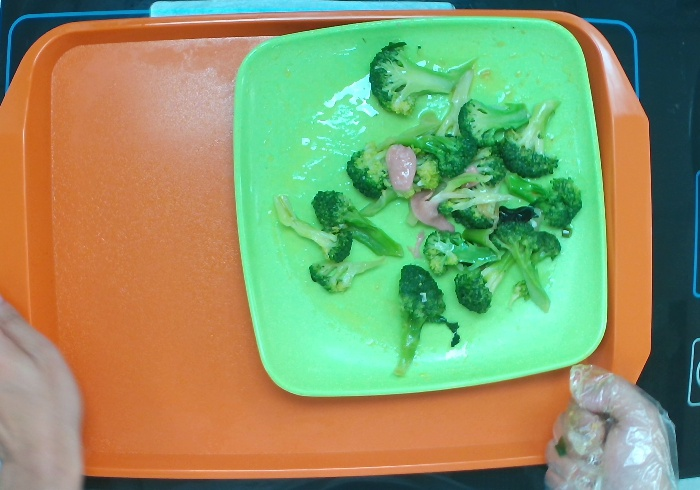ZNLD-Lv_Fang_Pan: (231, 11, 609, 398)
